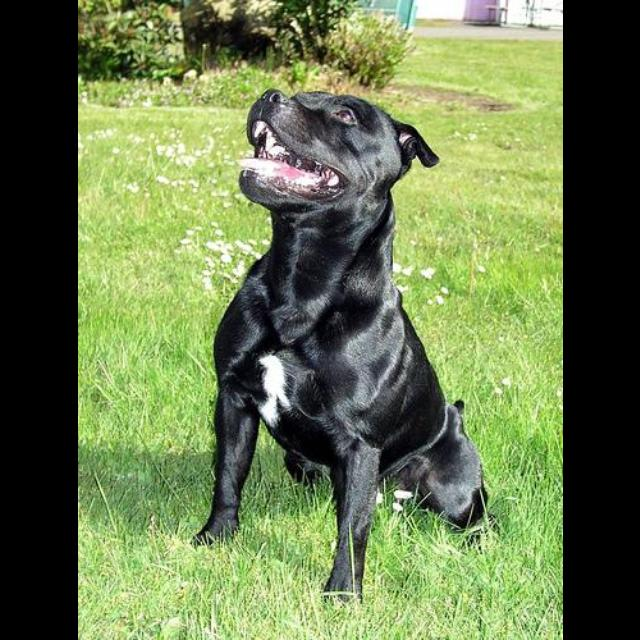staffford: (190, 88, 493, 611)
